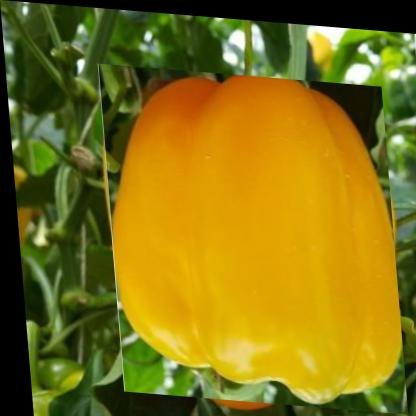capsicum: (96, 61, 403, 409)
